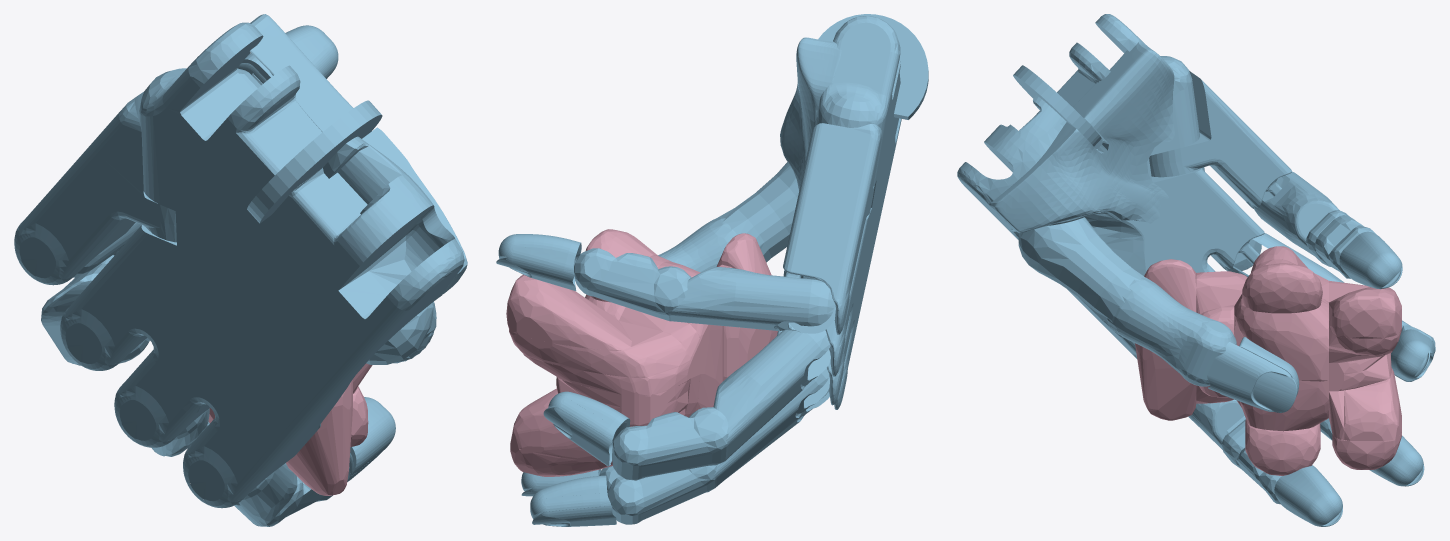
3 views of the same model, side by side, from view 1: azimuth 30°, elevation 25°; view 2: azimuth 150°, elevation 25°; view 3: azimuth 270°, elevation 25° (orthographic). The views are drawn at different scales.
Parts seen in each view (by area): view 1: hand_isaac_q, world; view 2: hand_isaac_q, world; view 3: hand_isaac_q, world.
Boxes of the visible parts, x1,y1,x2,y2 form: hand_isaac_q: [14, 14, 467, 526]; world: [208, 363, 372, 495]; hand_isaac_q: [496, 14, 928, 526]; world: [506, 229, 777, 476]; hand_isaac_q: [957, 14, 1435, 526]; world: [1135, 246, 1401, 475].
Bounding box in the file's own units: 0.1107 × 0.1613 × 0.1673.
